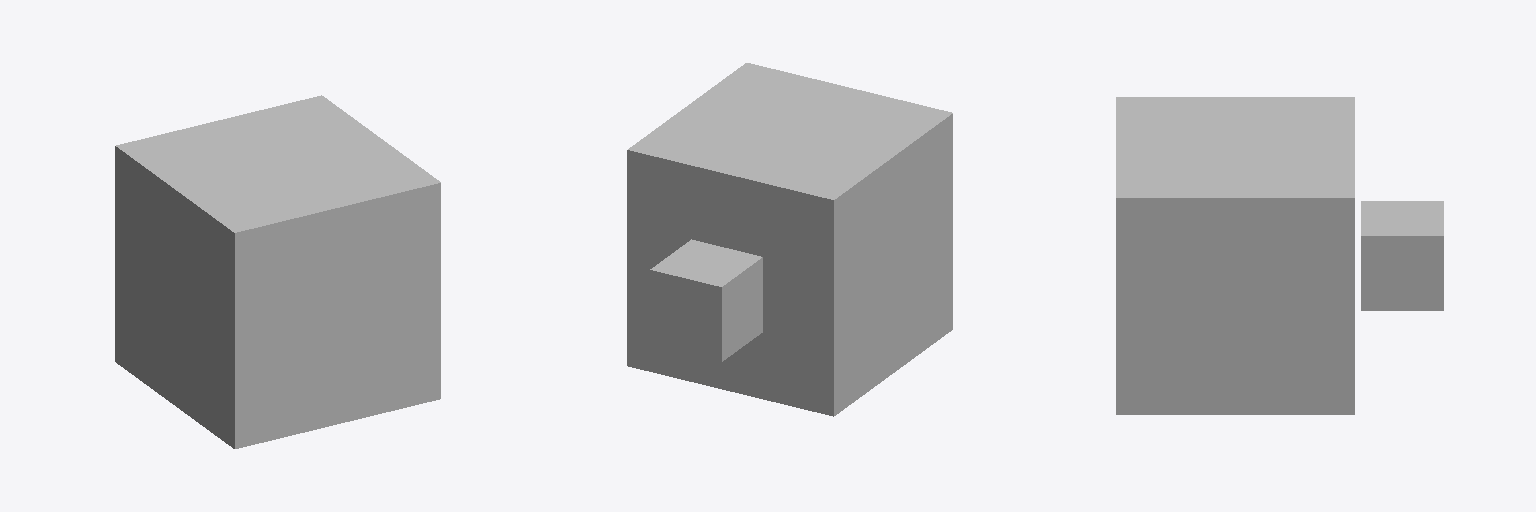
Rendered from debug-cubes.obj.
3 views of the same model, side by side, from view 1: azimuth 30°, elevation 25°; view 2: azimuth 150°, elevation 25°; view 3: azimuth 270°, elevation 25° (orthographic).
Visible parts, largest first — view 1: Cube; view 2: Cube, Cube.001; view 3: Cube, Cube.001.
Part boxes in pixels (x1,y1,x2,y2): Cube: (115, 95, 440, 448); Cube: (627, 63, 952, 416); Cube.001: (650, 239, 762, 361); Cube: (1116, 97, 1354, 414); Cube.001: (1361, 201, 1443, 310).
Bounding box in the file's own units: 2 × 2 × 2.75.